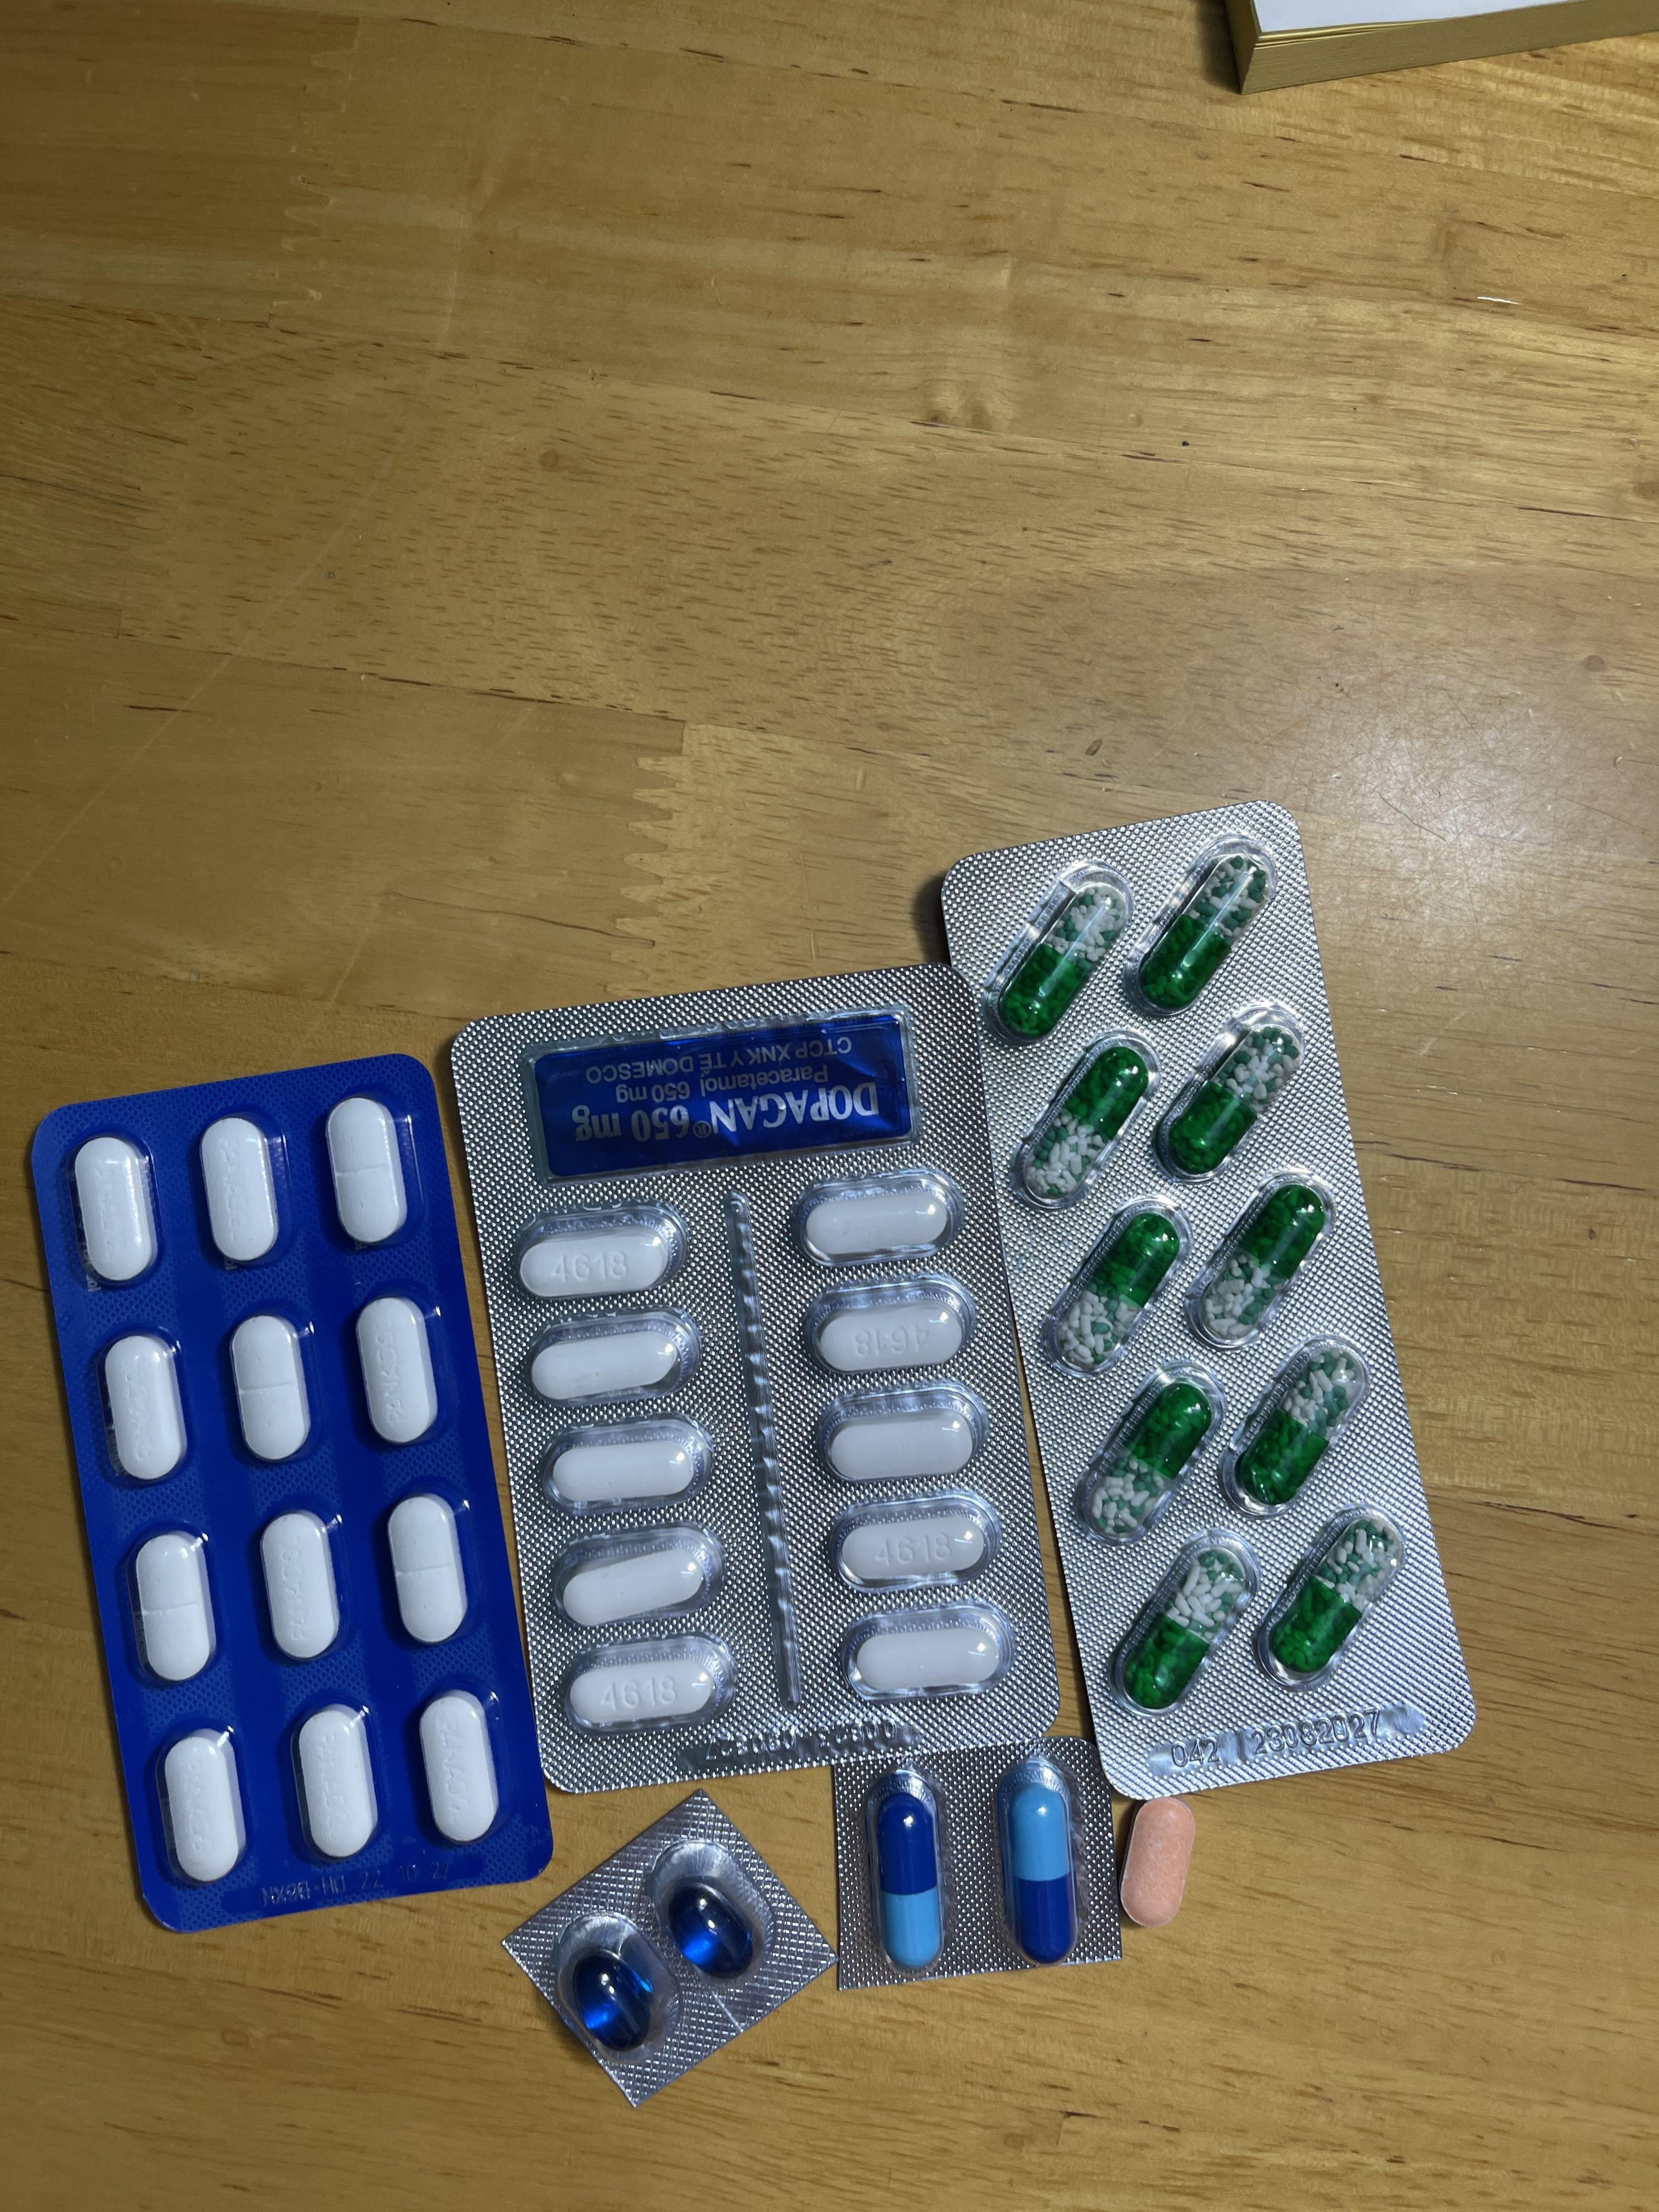Lincomyxin_500mg: (667, 1876, 755, 1977), (570, 1949, 653, 2048)
Loratadine_10mg: (1121, 1796, 1197, 1926)
Paracetamol_350mg: (129, 1529, 216, 1686), (99, 1332, 188, 1486), (159, 1730, 246, 1885), (293, 1705, 380, 1860), (228, 1313, 314, 1465), (354, 1296, 439, 1447), (71, 1136, 157, 1287), (416, 1689, 500, 1843), (258, 1508, 342, 1662), (385, 1493, 469, 1644), (199, 1116, 281, 1268), (324, 1097, 408, 1245)
Paracetamol_500mg: (556, 1533, 720, 1627), (514, 1211, 683, 1299), (544, 1421, 709, 1512), (566, 1639, 730, 1730), (795, 1170, 955, 1263), (807, 1284, 969, 1374), (526, 1317, 694, 1404), (831, 1501, 993, 1587), (843, 1611, 1004, 1696), (821, 1399, 979, 1482)
Paracetamol_650mg: (1155, 1005, 1307, 1179), (1188, 1177, 1335, 1352), (1131, 841, 1276, 1015), (992, 867, 1133, 1043), (1229, 1341, 1371, 1510), (1080, 1371, 1220, 1540), (1049, 1202, 1185, 1372), (1012, 1042, 1152, 1207), (1122, 1541, 1251, 1707), (1269, 1517, 1399, 1676)
pill: (870, 1775, 943, 1973), (1002, 1770, 1075, 1961)
